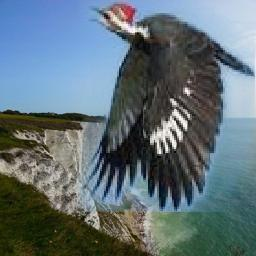Woodpecker: (79, 0, 256, 212)
